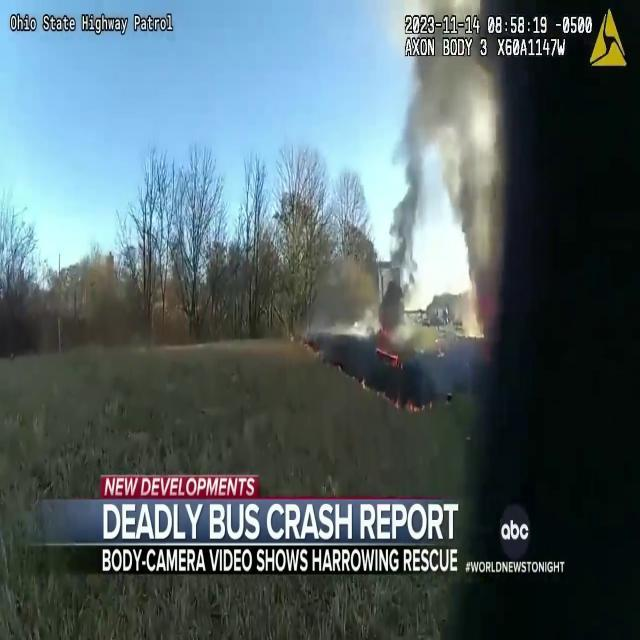Smoke: (374, 60, 499, 332)
